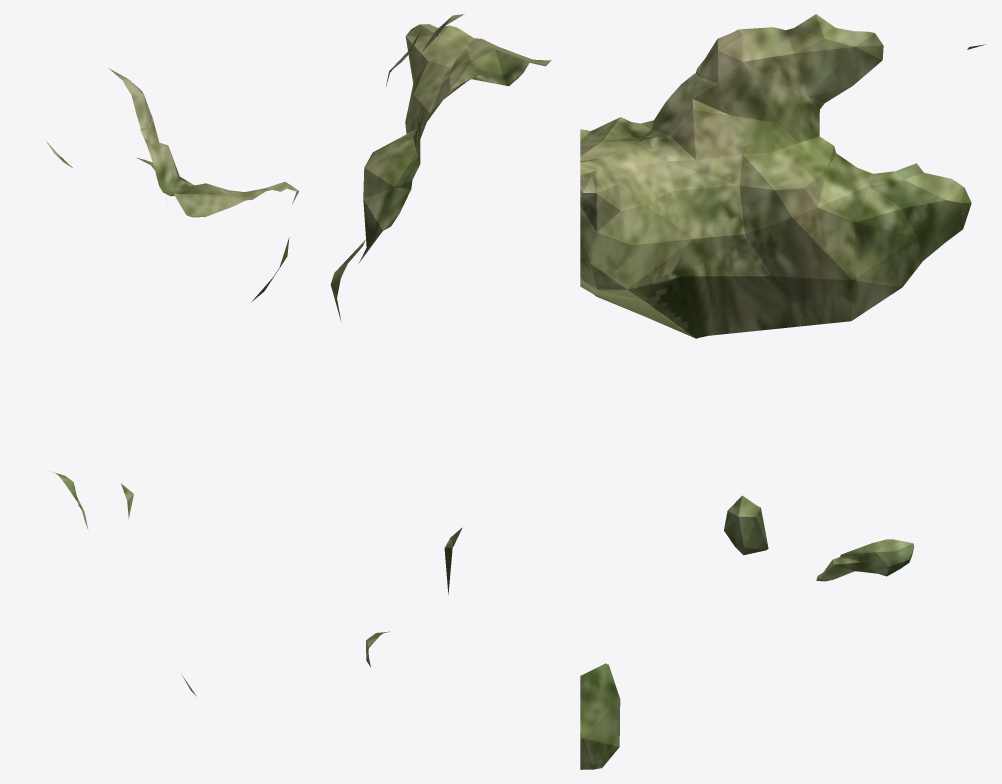
The picture shows the model from 3 angles, left to right: view 1: azimuth 30°, elevation 25°; view 2: azimuth 150°, elevation 25°; view 3: azimuth 270°, elevation 25°; orthographic projection. The views are drawn at different scales.
Bounding box in the file's own units: 0.4646 × 2.64 × 1.29.
Materials: 1 (1 with a texture image).
